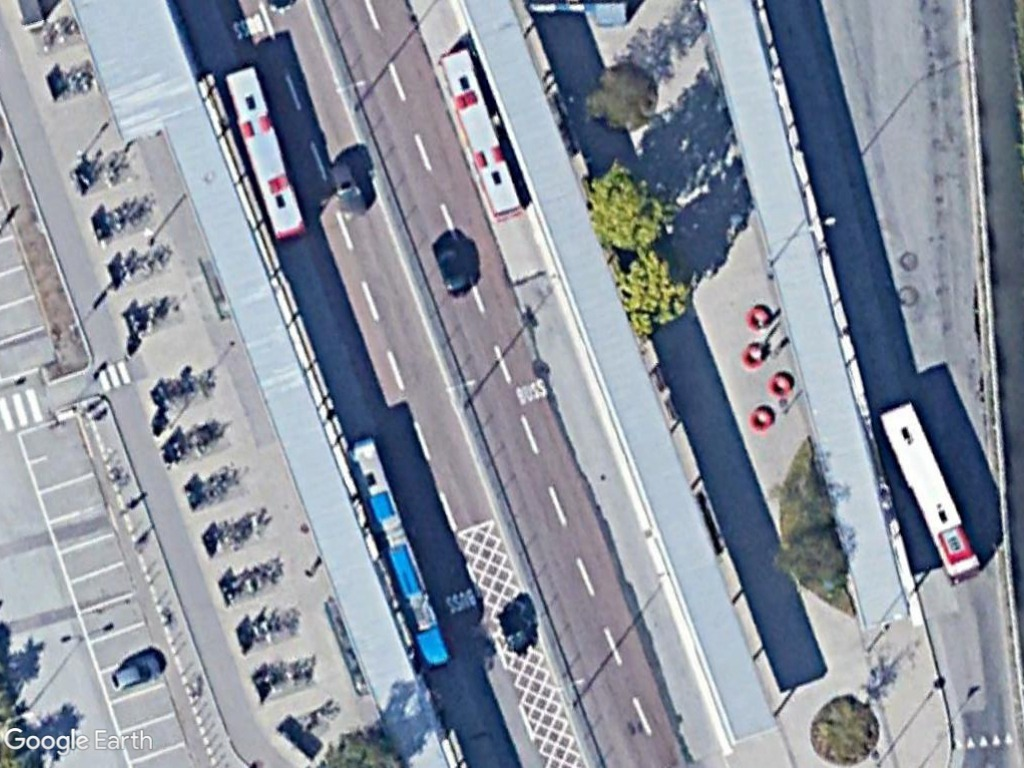bus: (877, 395, 985, 588), (220, 61, 308, 244), (440, 44, 527, 224)
car: (106, 648, 165, 696)
